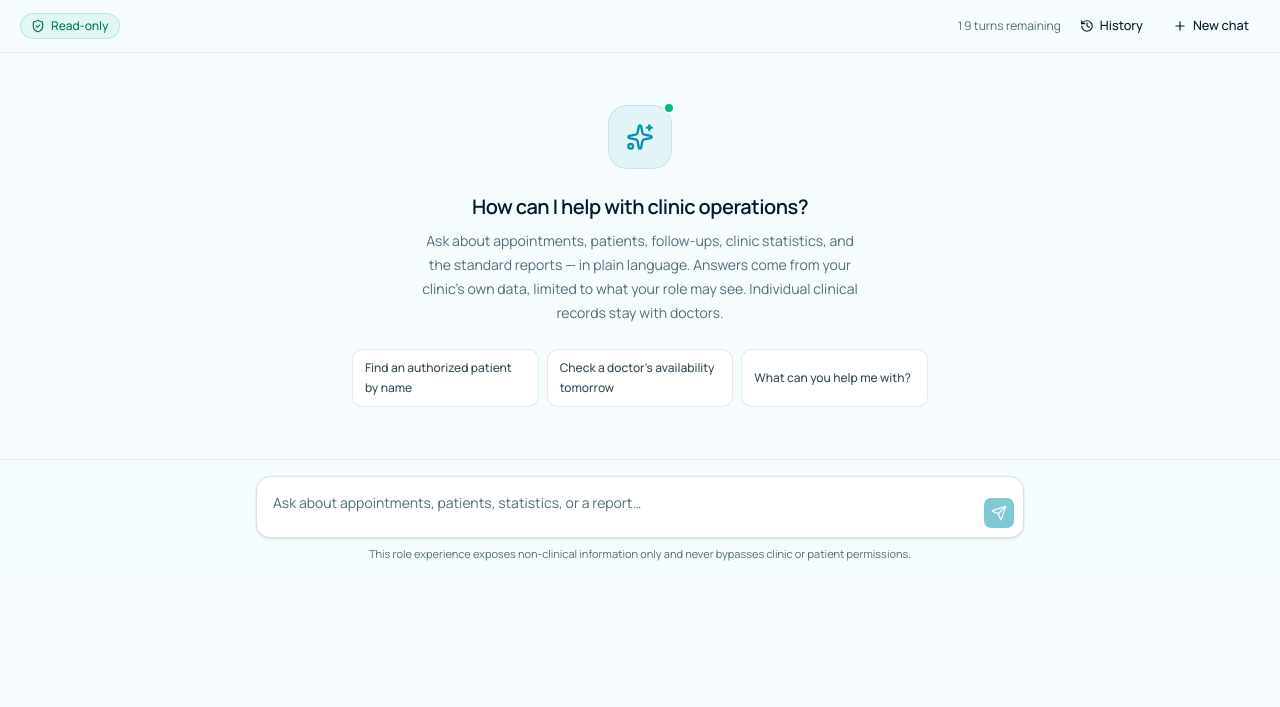
Test: the history panel is reachable from the assistant page › lists earlier conversations with their titles and marks the current one
Click the button "History" at [1111, 26], box [1069, 12, 1154, 40]
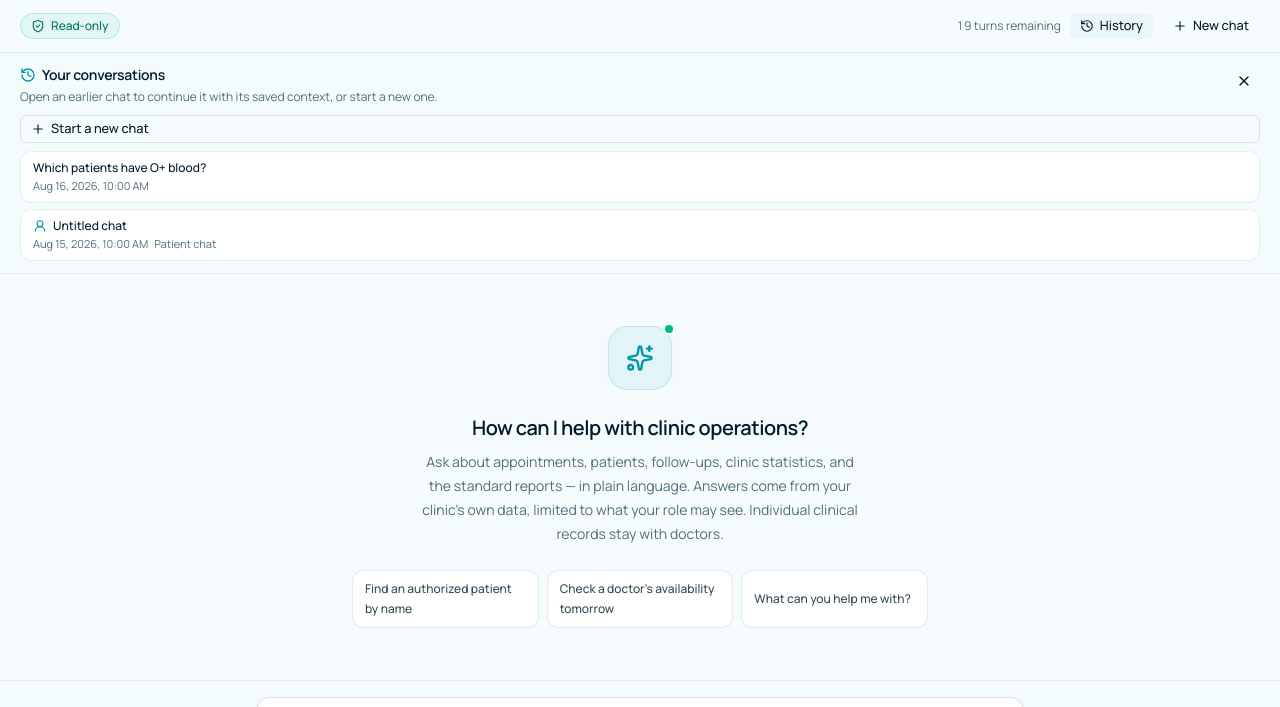
Expected: the text "Which patients have O+ blood?" is shown, [33, 160, 206, 176]
Expected: the heading "Your conversations" is shown, [20, 65, 165, 84]
Expected: the text "Untitled chat" is shown, [53, 218, 127, 234]
